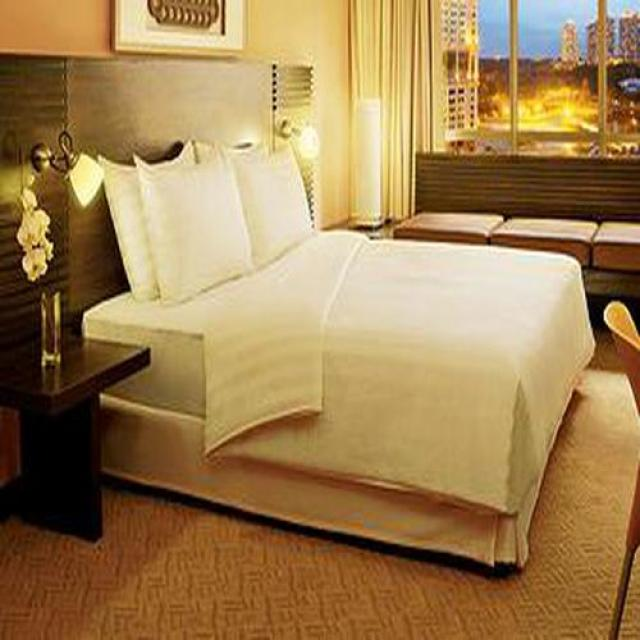bed: (65, 59, 595, 571)
table: (0, 294, 150, 540)
